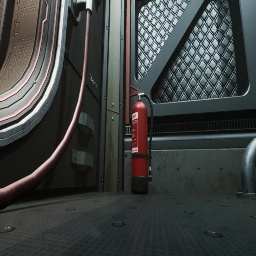FireExtinguisher ]: (130, 86, 153, 194)
